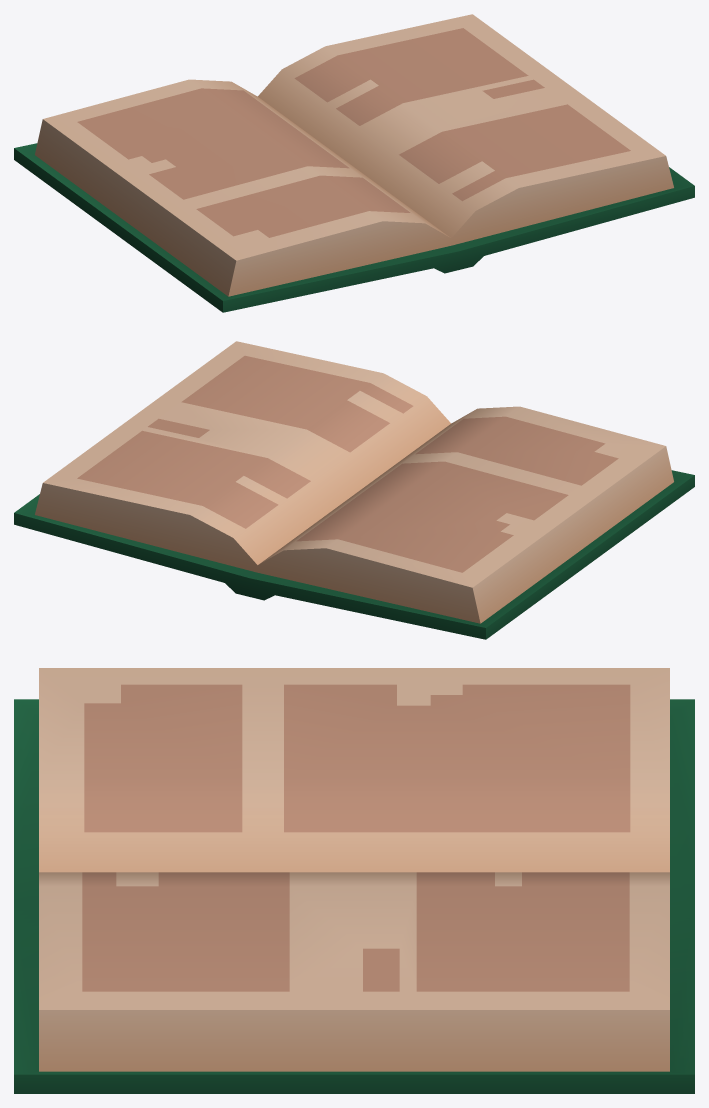
Rendered from BookOpen6.fbx.
3 renders of one model, top to bottom at view 1: azimuth 30°, elevation 25°; view 2: azimuth 150°, elevation 25°; view 3: azimuth 270°, elevation 25°, orthographic. The views are drawn at different scales.
Parts seen in each view (by area): view 1: BookOpen6; view 2: BookOpen6; view 3: BookOpen6.
Boxes of the visible parts, <box> form: BookOpen6: <box>14,14,694,312</box>; BookOpen6: <box>14,341,694,639</box>; BookOpen6: <box>14,668,694,1093</box>.
Bounding box in the file's own units: 43.62 × 5.29 × 33.45.
